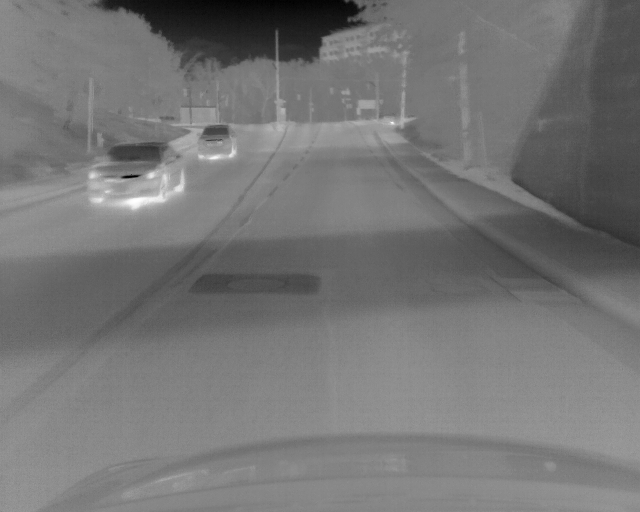car: (86, 139, 187, 208), (195, 123, 239, 162)
